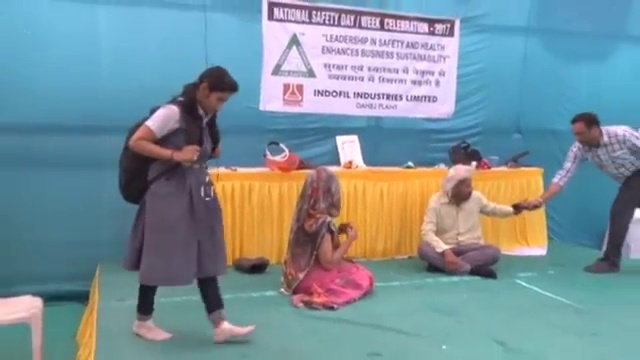helmet_off: (300, 171, 344, 219), (195, 69, 236, 117), (442, 167, 475, 205), (571, 114, 605, 150)
person: (110, 66, 256, 345), (514, 111, 639, 274), (415, 164, 527, 292), (280, 170, 375, 311)
